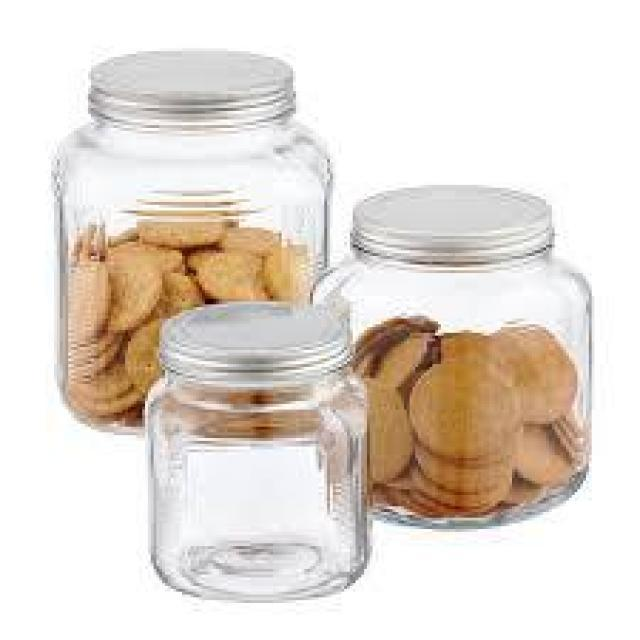Glass: (49, 45, 334, 435), (308, 182, 596, 536), (144, 302, 377, 608)
